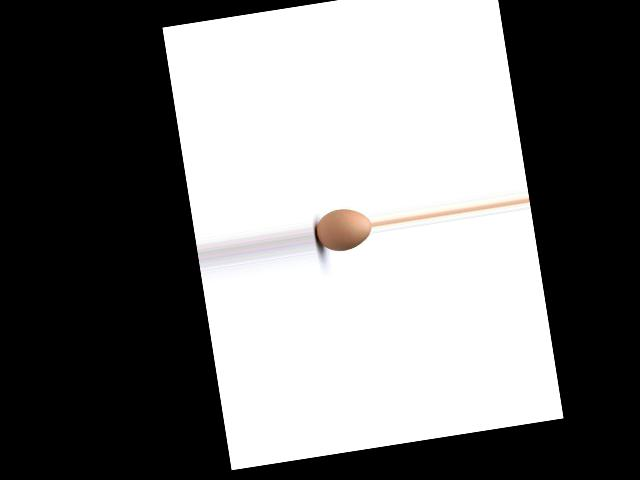egg: (313, 205, 373, 254)
